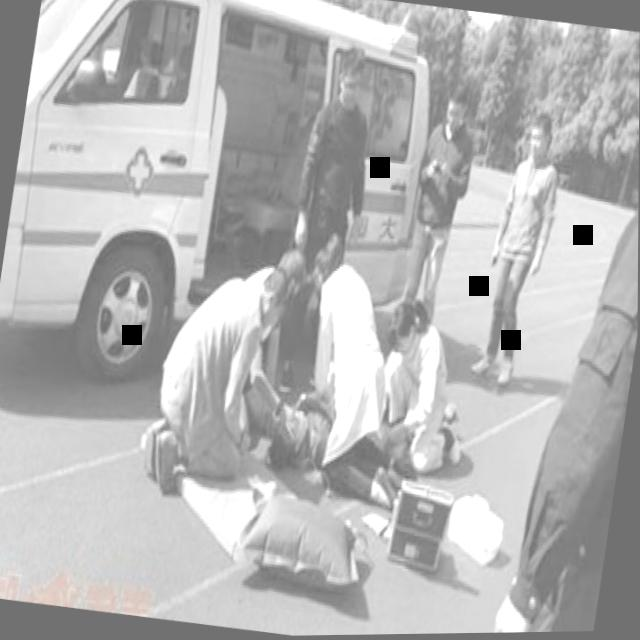Fall-Detected: (247, 359, 470, 522)
